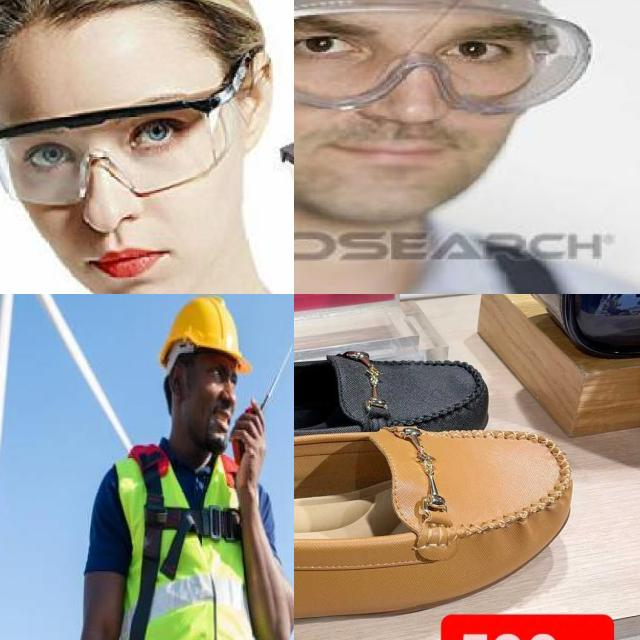Harness: (129, 445, 242, 640)
Sandals: (294, 402, 580, 640), (294, 326, 515, 470)
face_nomask: (6, 115, 220, 294), (294, 8, 519, 177)
glasses: (294, 0, 590, 118), (0, 72, 255, 206)
head_nohelmet: (0, 0, 217, 48)
